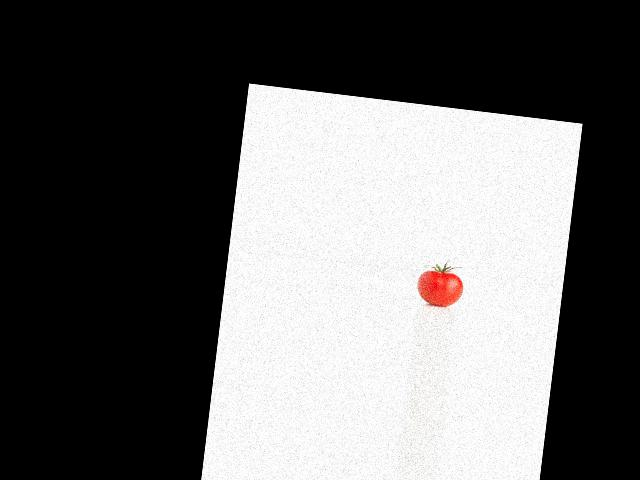tomato: (415, 268, 465, 308)
